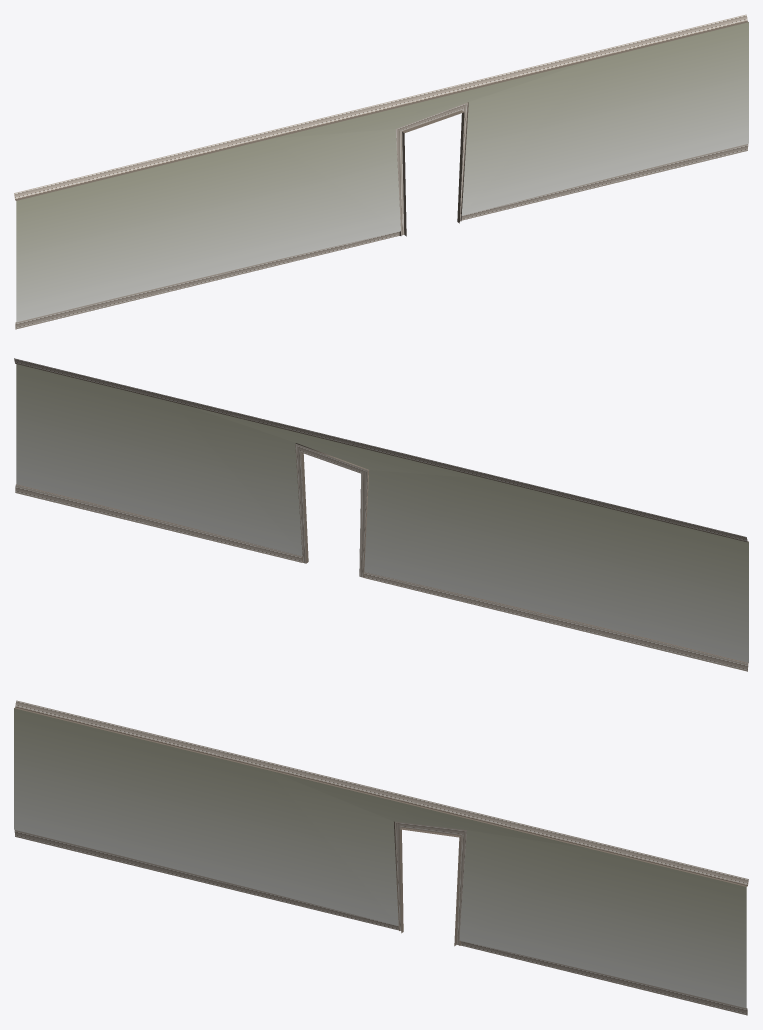
Rendered from SM_Office_Wall_F.fbx.
3 views of the same model, one above another, from view 1: azimuth 30°, elevation 25°; view 2: azimuth 150°, elevation 25°; view 3: azimuth 330°, elevation 25° (orthographic).
Parts seen in each view (by area): view 1: wall_F; view 2: wall_F; view 3: wall_F.
Boxes of the visible parts, x1=… form: wall_F: x1=14, y1=14, x2=748, y2=329; wall_F: x1=14, y1=358, x2=748, y2=671; wall_F: x1=14, y1=700, x2=748, y2=1015.
Size of the model in its own units: 1667 by 295 by 15.11.
2 materials, 2 textured.
